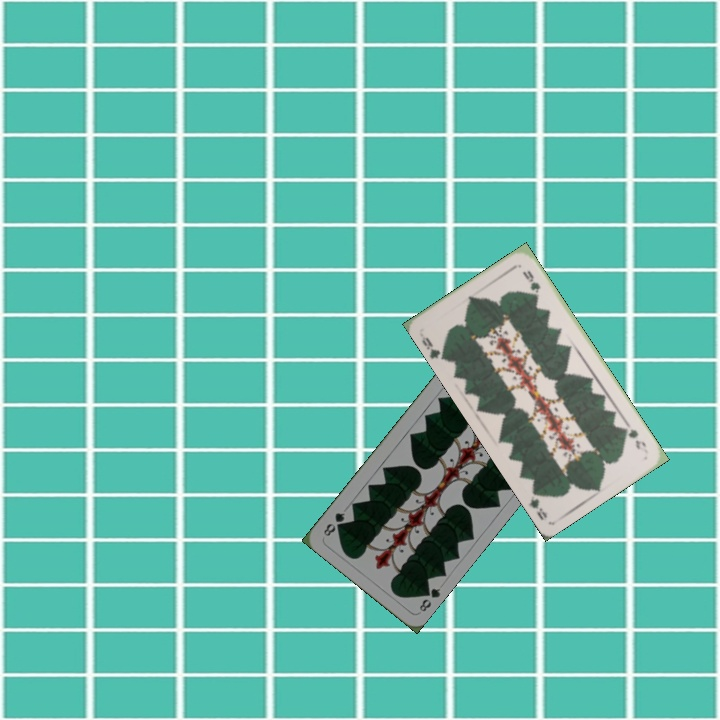G8: (415, 582, 443, 614)
G9: (416, 329, 448, 362), (620, 419, 649, 452)
